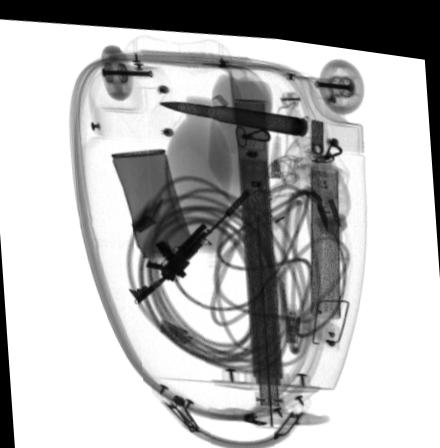Bullet: (155, 95, 305, 128)
Gun: (126, 181, 250, 300)
